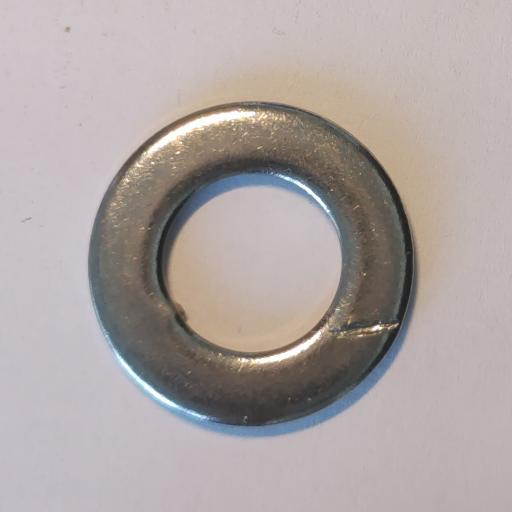scratch: (331, 318, 400, 339)
